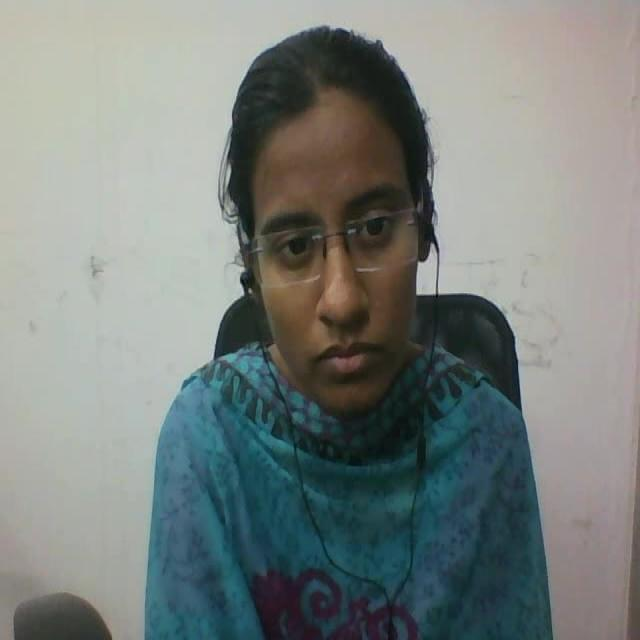Engaged: (213, 21, 531, 435)
